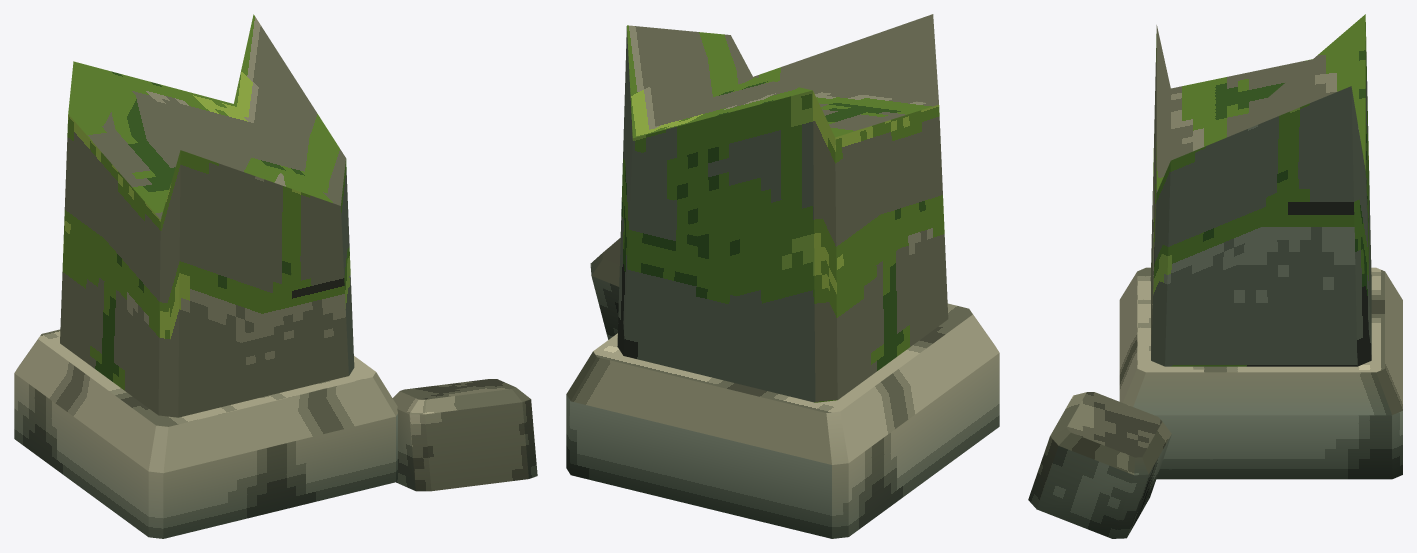
The model's file is ruin.pier__broken.glb.
3 views of the same model, side by side, from view 1: azimuth 30°, elevation 25°; view 2: azimuth 150°, elevation 25°; view 3: azimuth 270°, elevation 25° (orthographic). The views are drawn at different scales.
Visible parts, largest first — view 1: kit_shaft, kit_base, kit_fallen; view 2: kit_shaft, kit_base, kit_fallen; view 3: kit_shaft, kit_base, kit_fallen.
Boxes of the visible parts, box(x1,y1,x2,y2) form: kit_shaft: box(60, 14, 354, 417); kit_base: box(14, 329, 397, 538); kit_fallen: box(392, 379, 537, 491); kit_shaft: box(617, 14, 948, 402); kit_base: box(566, 303, 999, 538); kit_fallen: box(590, 238, 620, 339); kit_shaft: box(1150, 14, 1371, 366); kit_base: box(1119, 267, 1402, 479); kit_fallen: box(1028, 392, 1171, 538).
Size of the model in its own units: 2.3 by 2.43 by 2.12.
Materials: 3 (3 with a texture image).
